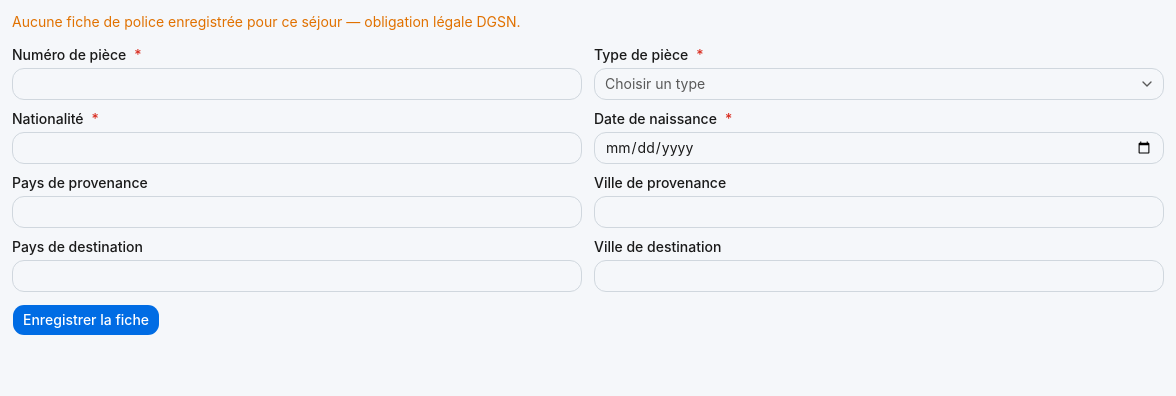
Test: PoliceRecordForm — erreurs de champ homogènes (CH-032) › efface l'erreur d'un champ dès qu'il est renseigné, sans toucher aux autres
Expected: the field labelled "Numéro de pièce *" is shown, [12,68,582,100]
Click the button "Enregistrer la fiche". click: (86, 320)
box: [12,304,160,336]
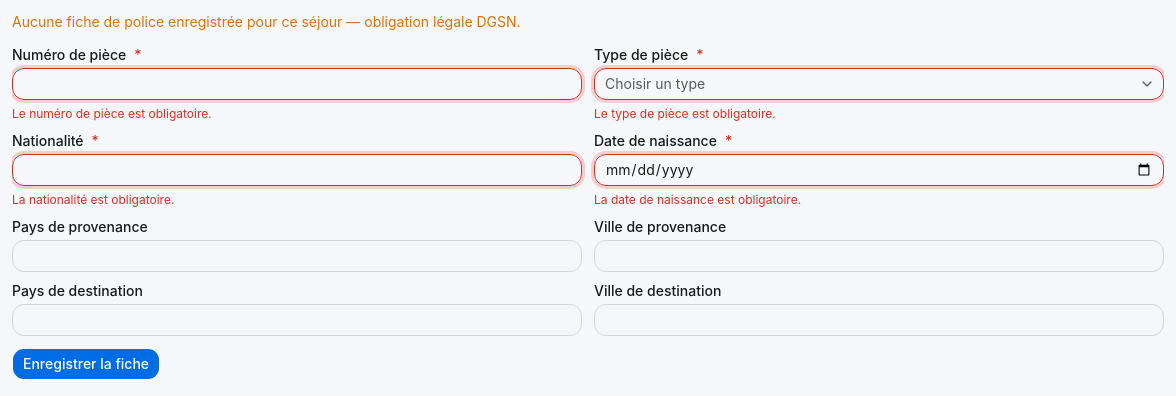
Now the text "Le numéro de pièce est obligatoire." is shown, box [12,106,212,121]
Type "AB123456" into the field labelled "Numéro de pièce *". click: (297, 84)
box: [12,68,582,100]
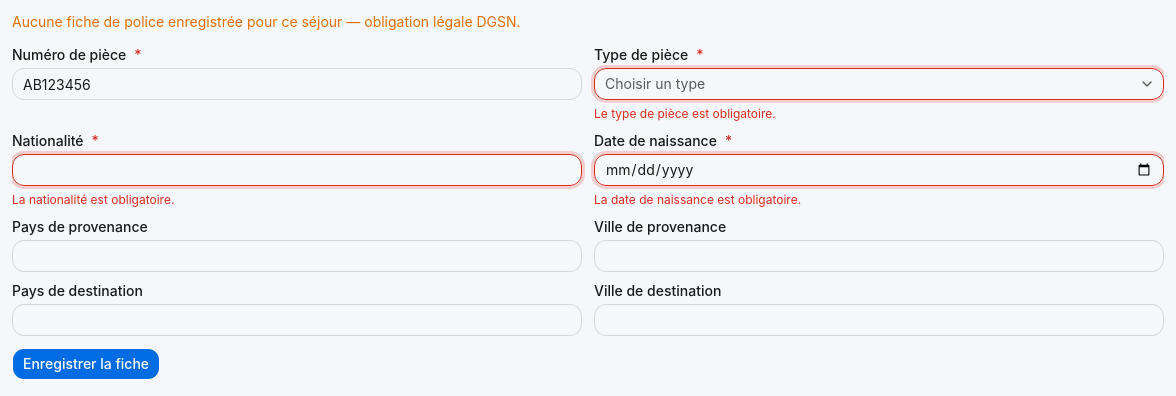
Now the text "La nationalité est obligatoire." is shown, box [12,192,174,207]
Now the text "Le numéro de pièce est obligatoire." is gone
